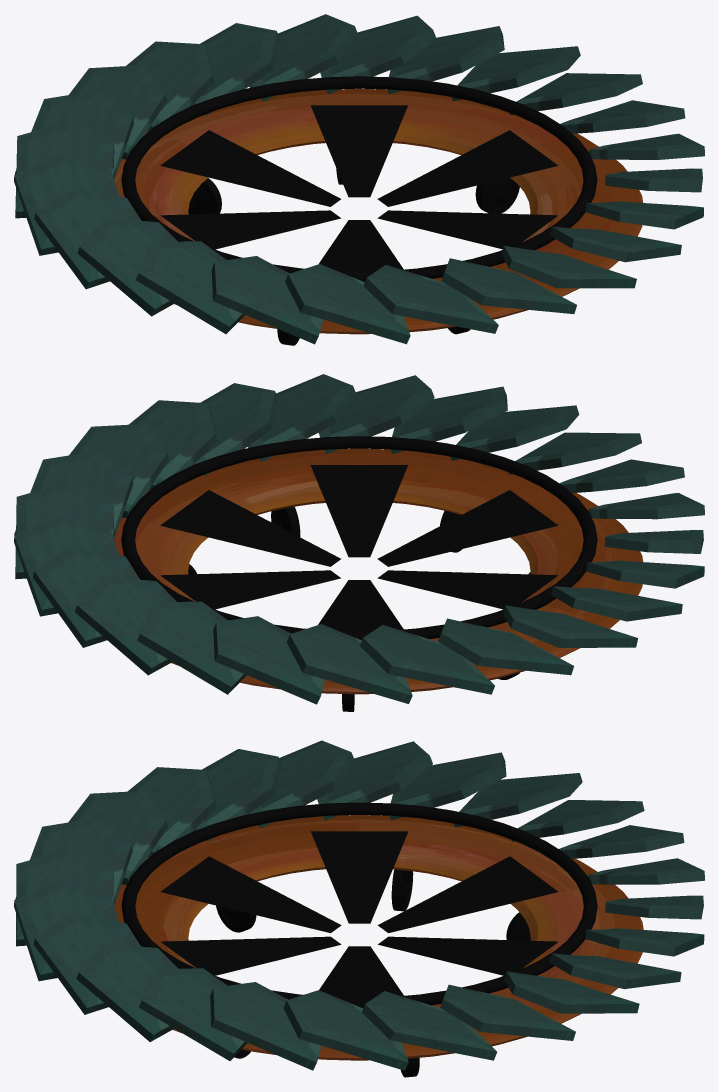
The model's file is spinner.fbx.
3 views of the same model, one above another, from view 1: azimuth 30°, elevation 25°; view 2: azimuth 150°, elevation 25°; view 3: azimuth 270°, elevation 25° (orthographic).
Visible parts, largest first — view 1: Cube.078, Plane.011, Torus, BézierCircle.002, Cylinder.046; view 2: Cube.078, Plane.011, Torus, BézierCircle.002, Cylinder.046; view 3: Cube.078, Plane.011, Torus, BézierCircle.002, Cylinder.046.
Boxes of the visible parts, x1=… form: Cube.078: x1=14, y1=14, x2=704, y2=344; Plane.011: x1=160, y1=105, x2=558, y2=271; Torus: x1=114, y1=88, x2=643, y2=334; BézierCircle.002: x1=121, y1=76, x2=597, y2=281; Cylinder.046: x1=188, y1=167, x2=519, y2=345; Cube.078: x1=14, y1=374, x2=704, y2=704; Plane.011: x1=160, y1=465, x2=558, y2=631; Torus: x1=114, y1=448, x2=643, y2=694; BézierCircle.002: x1=121, y1=436, x2=597, y2=640; Cylinder.046: x1=188, y1=506, x2=530, y2=711; Cube.078: x1=14, y1=740, x2=704, y2=1070; Plane.011: x1=160, y1=831, x2=558, y2=997; Torus: x1=114, y1=815, x2=643, y2=1060; BézierCircle.002: x1=121, y1=802, x2=597, y2=1007; Cylinder.046: x1=216, y1=869, x2=530, y2=1077.
Bounding box in the file's own units: 1411 × 265 × 1412.
Materials: 3 (2 with a texture image).
